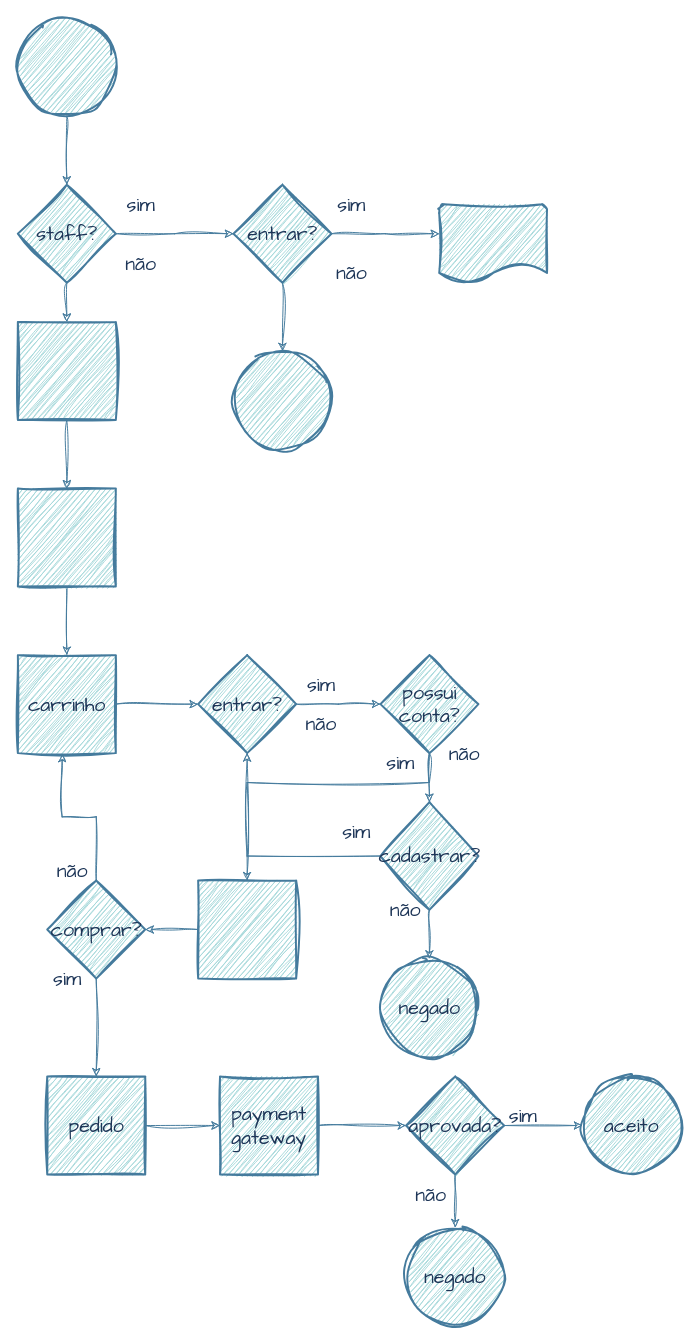
Some shapes in this 699 by 1343 pixel diagram are drawn without their labels. The centre of each missing label's shape, as x and y in pixels:
"acesso as models" belongs at (493,243).
"acesso negado" belongs at (282,400).
"adicionado" belongs at (247,929).
"detalhes" belongs at (66,537).
"homepage" belongs at (66,67).
"produtos" belongs at (66,370).
